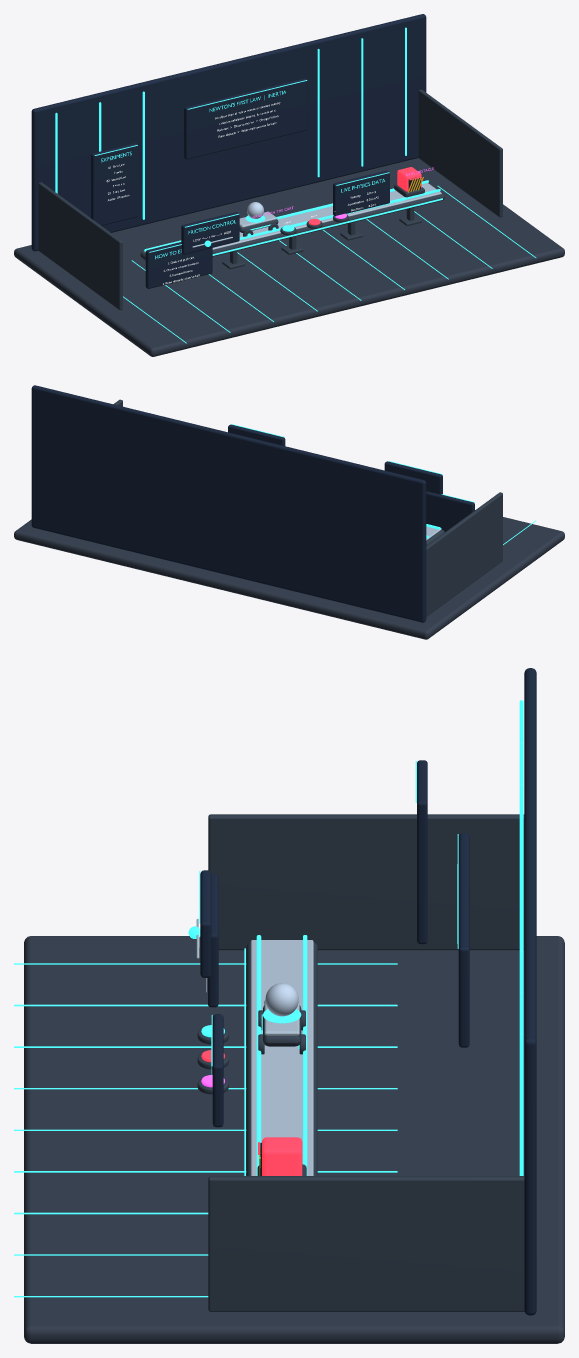
File: NewtonsFirstLawExp.fbx
3 views of the same model, one above another, from view 1: azimuth 30°, elevation 25°; view 2: azimuth 150°, elevation 25°; view 3: azimuth 270°, elevation 25° (orthographic). The views are drawn at different scales.
Parts seen in each view (by area): view 1: Rear Wall, Lab Floor, Main Law Panel, Side Support, Side Support.001, Law Navigation, Instructions Panel, Live Data Panel, Friction Console, Track Top Surface, Track Main Deck, Track Front Glow (+1 smaller); view 2: Rear Wall, Lab Floor, Side Support, Instructions Panel, Friction Console, Live Data Panel; view 3: Lab Floor, Side Support.001, Side Support, Track Top Surface, Rear Wall, Main Law Panel, Track Main Deck, Law Navigation, Obstacle Housing, Live Data Panel, Friction Console, Track Rail (+5 smaller).
Part boxes in pixels (bbox=[...]): Rear Wall: bbox=[31, 14, 426, 251]; Lab Floor: bbox=[14, 158, 564, 356]; Main Law Panel: bbox=[184, 78, 307, 159]; Side Support: bbox=[38, 182, 122, 310]; Side Support.001: bbox=[418, 89, 502, 217]; Law Navigation: bbox=[91, 143, 138, 225]; Instructions Panel: bbox=[145, 242, 212, 288]; Live Data Panel: bbox=[333, 170, 389, 216]; Friction Console: bbox=[181, 212, 239, 254]; Track Top Surface: bbox=[143, 183, 441, 252]; Track Main Deck: bbox=[140, 193, 444, 260]; Track Front Glow: bbox=[212, 198, 442, 255]; Rear Wall: bbox=[31, 385, 426, 622]; Lab Floor: bbox=[14, 517, 564, 639]; Side Support: bbox=[426, 492, 502, 616]; Instructions Panel: bbox=[426, 491, 474, 532]; Friction Console: bbox=[384, 461, 442, 494]; Live Data Panel: bbox=[228, 424, 285, 445]; Lab Floor: bbox=[24, 936, 564, 1343]; Side Support.001: bbox=[208, 1176, 524, 1311]; Side Support: bbox=[208, 814, 524, 950]; Track Top Surface: bbox=[250, 940, 313, 1175]; Rear Wall: bbox=[524, 668, 536, 1315]; Main Law Panel: bbox=[458, 833, 469, 1047]; Track Main Deck: bbox=[246, 942, 317, 1175]; Law Navigation: bbox=[417, 760, 427, 944]; Obstacle Housing: bbox=[262, 1137, 302, 1175]; Live Data Panel: bbox=[212, 1014, 223, 1127]; Friction Console: bbox=[200, 870, 211, 977]; Track Rail: bbox=[256, 935, 261, 1175].
Size of the model in its own units: 19 by 6.62 by 11.2.
